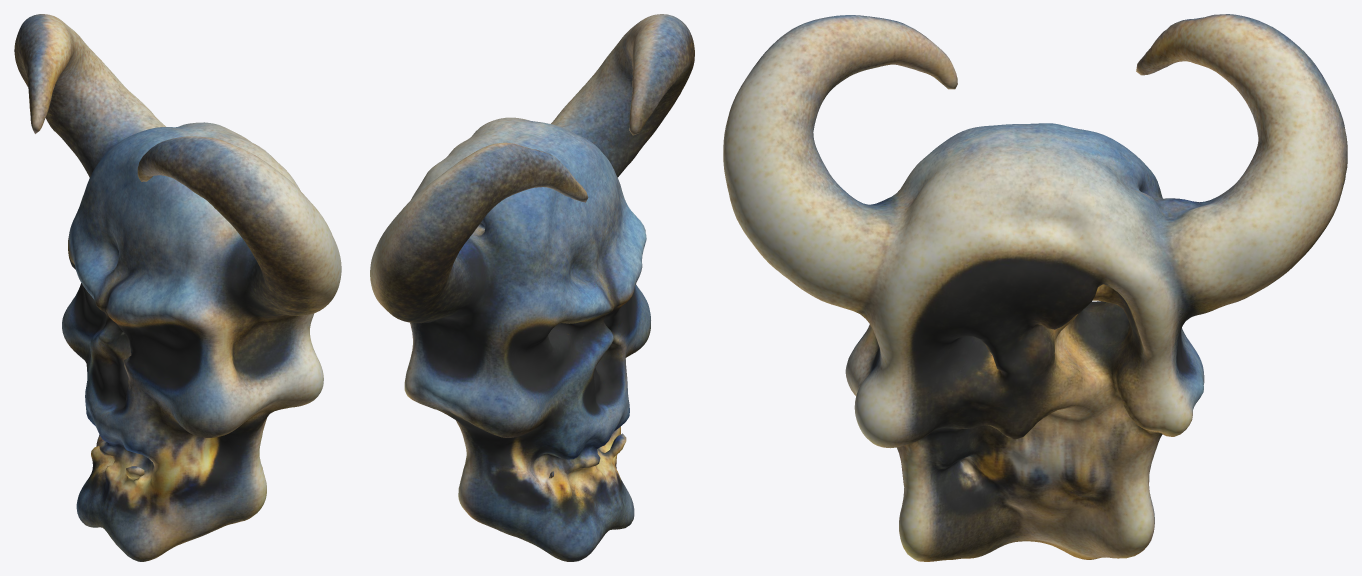
The model's file is demon_skull_1.glb.
3 views of the same model, side by side, from view 1: azimuth 30°, elevation 25°; view 2: azimuth 150°, elevation 25°; view 3: azimuth 270°, elevation 25° (orthographic). The views are drawn at different scales.
Visible parts, largest first — view 1: Mesh1; view 2: Mesh1; view 3: Mesh1.
Part boxes in pixels (x1,y1,x2,y2): Mesh1: (14, 14, 341, 561); Mesh1: (370, 14, 694, 561); Mesh1: (723, 14, 1347, 561).
Bounding box in the file's own units: 0.5225 × 1.16 × 1.2.
Materials: 1 (1 with a texture image).
